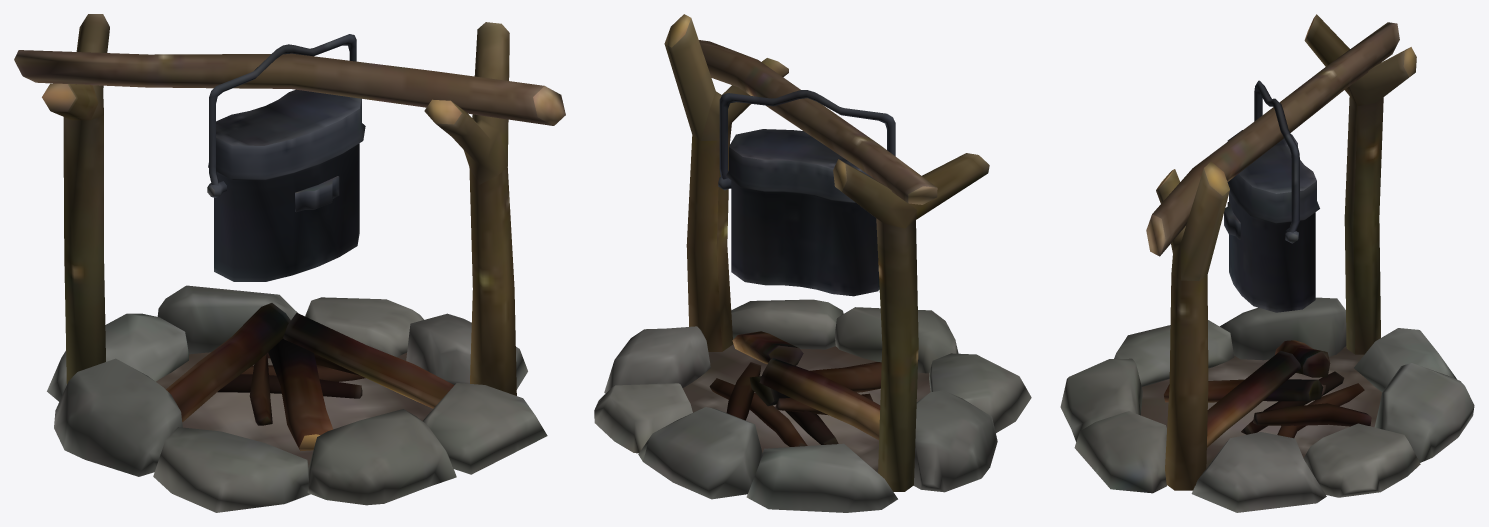
3 views of the same model, side by side, from view 1: azimuth 30°, elevation 25°; view 2: azimuth 150°, elevation 25°; view 3: azimuth 270°, elevation 25° (orthographic). The views are drawn at different scales.
Size of the model in its own units: 9.01 by 7.31 by 8.35.
1 material, 1 textured.
